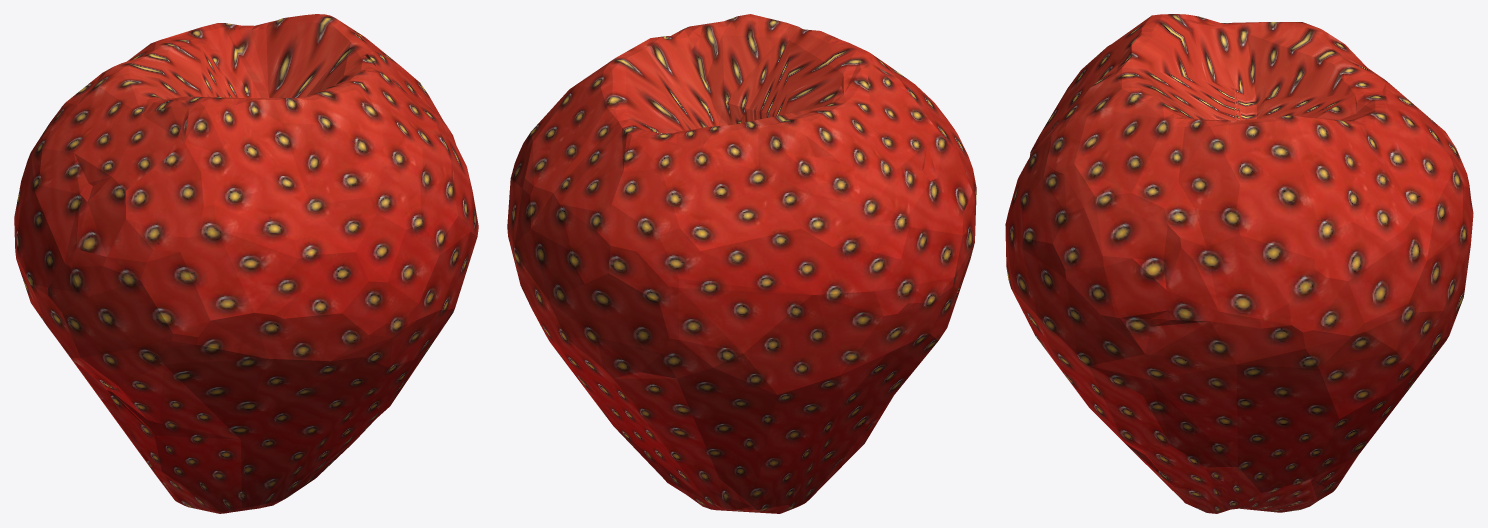
3 views of the same model, side by side, from view 1: azimuth 30°, elevation 25°; view 2: azimuth 150°, elevation 25°; view 3: azimuth 270°, elevation 25° (orthographic). The views are drawn at different scales.
Parts seen in each view (by area): view 1: _004_Meshed; view 2: _004_Meshed; view 3: _004_Meshed.
Part boxes in pixels (<box>): _004_Meshed: <box>14,14,478,513</box>; _004_Meshed: <box>507,14,976,513</box>; _004_Meshed: <box>1005,14,1473,513</box>.
Size of the model in its own units: 0.1098 by 0.1046 by 0.1135.
Materials: 1 (1 with a texture image).
